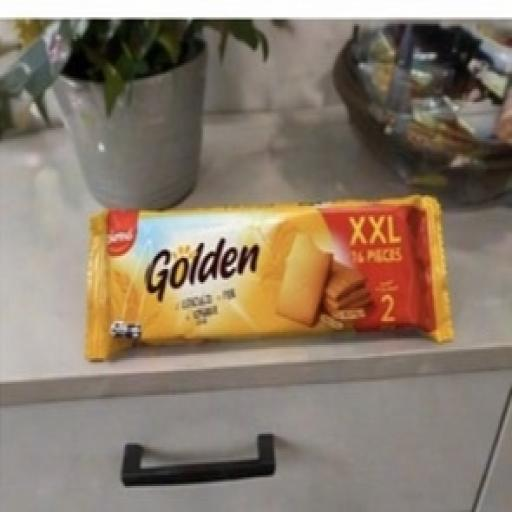golden: (59, 143, 486, 411)
